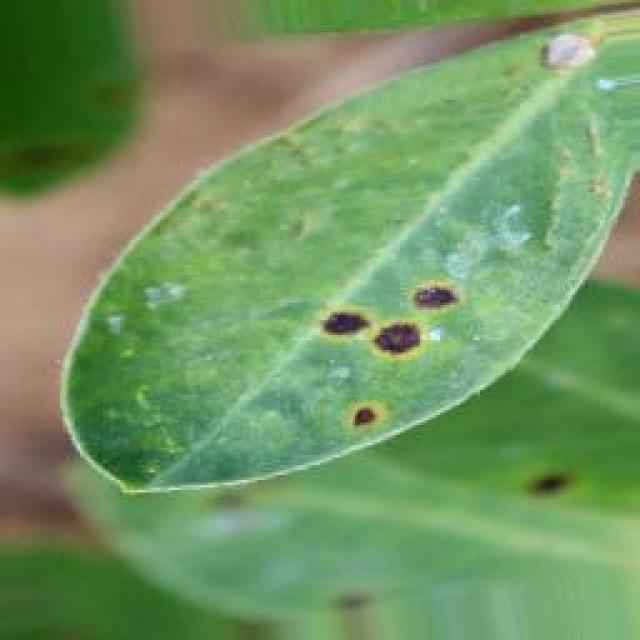Sigatoka: (294, 269, 480, 440), (487, 412, 575, 509)
